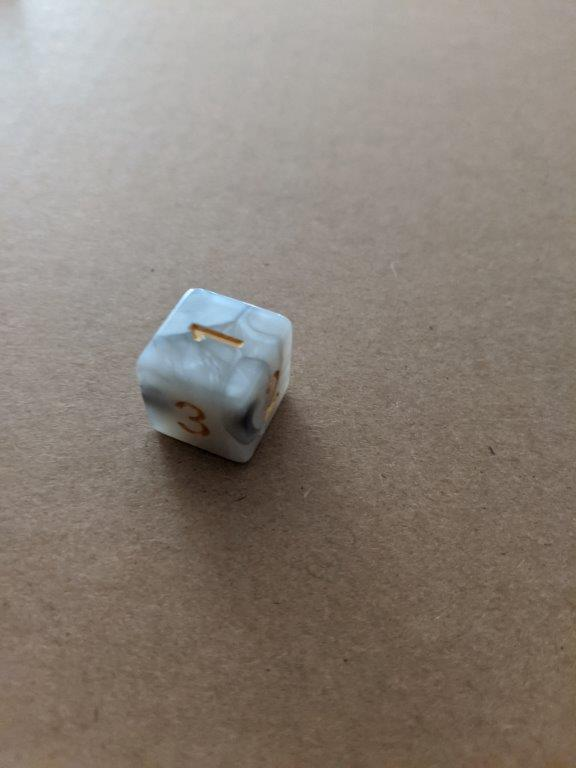d6-1: (135, 284, 292, 463)
